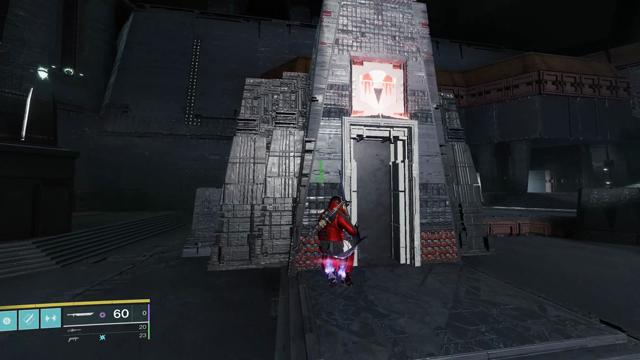give: (358, 70, 397, 108)
